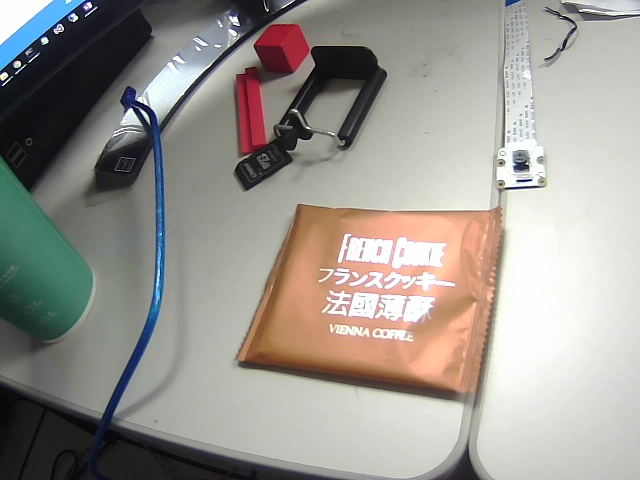frenchcookie: (237, 199, 504, 409)
